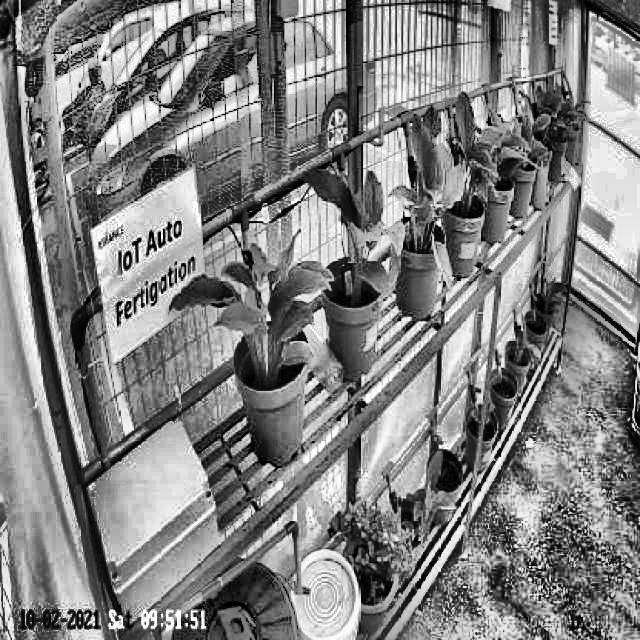plants: (170, 234, 332, 380), (306, 160, 408, 306), (398, 108, 466, 286), (438, 94, 500, 212)
